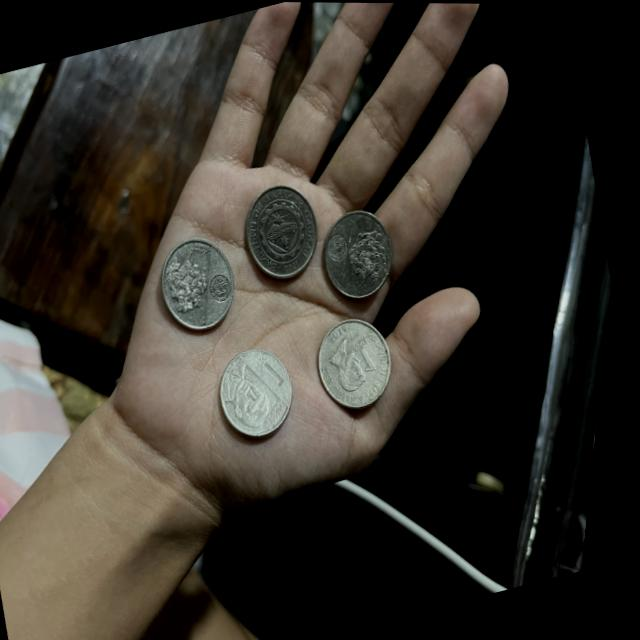1_New_Back: (338, 213, 407, 292), (157, 245, 223, 317)
1_New_Front: (248, 342, 306, 403)
1_Old_Back: (238, 179, 330, 281)
1_Old_Front: (345, 320, 396, 388)
